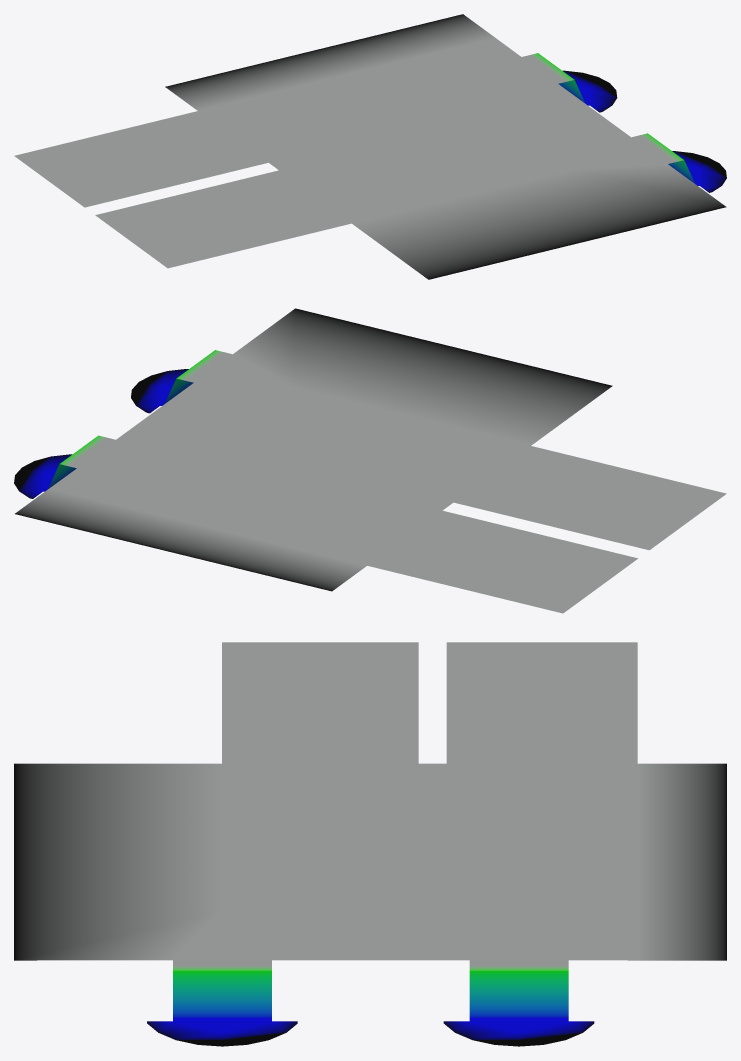
3 views of the same model, one above another, from view 1: azimuth 30°, elevation 25°; view 2: azimuth 150°, elevation 25°; view 3: azimuth 270°, elevation 25° (orthographic). The views are drawn at different scales.
Parts seen in each view (by area): view 1: G:\FFXIV-MapTools\exports\limsa\bg\ffxiv\sea_s1\twn\common\b (×2); view 2: G:\FFXIV-MapTools\exports\limsa\bg\ffxiv\sea_s1\twn\common\b (×2); view 3: G:\FFXIV-MapTools\exports\limsa\bg\ffxiv\sea_s1\twn\common\b (×2).
Part boxes in pixels (left/top/right/bottom): G:\FFXIV-MapTools\exports\limsa\bg\ffxiv\sea_s1\twn\common\b (×2): left=14, top=14, right=726, bottom=279; G:\FFXIV-MapTools\exports\limsa\bg\ffxiv\sea_s1\twn\common\b (×2): left=14, top=308, right=726, bottom=613; G:\FFXIV-MapTools\exports\limsa\bg\ffxiv\sea_s1\twn\common\b (×2): left=14, top=642, right=726, bottom=1046.
Size of the model in its own units: 8.7 by 0.446 by 7.2.
